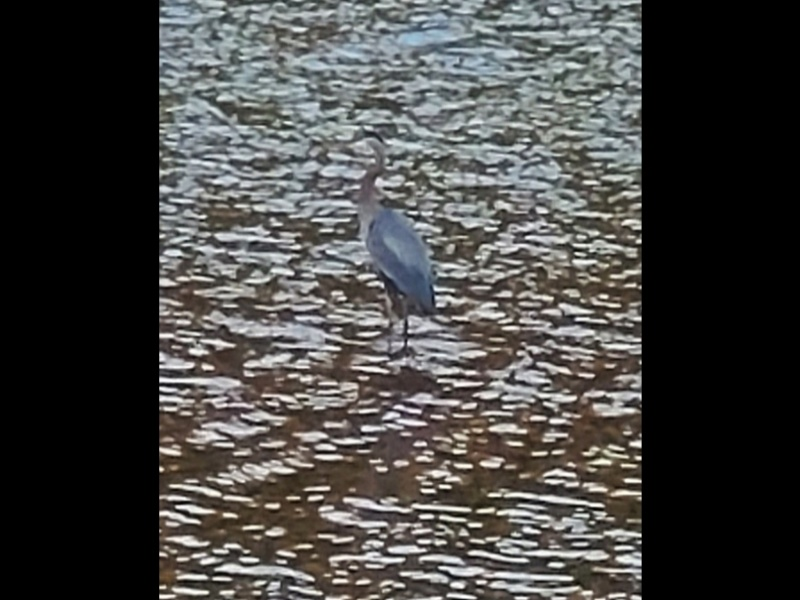heron: (343, 127, 443, 363)
